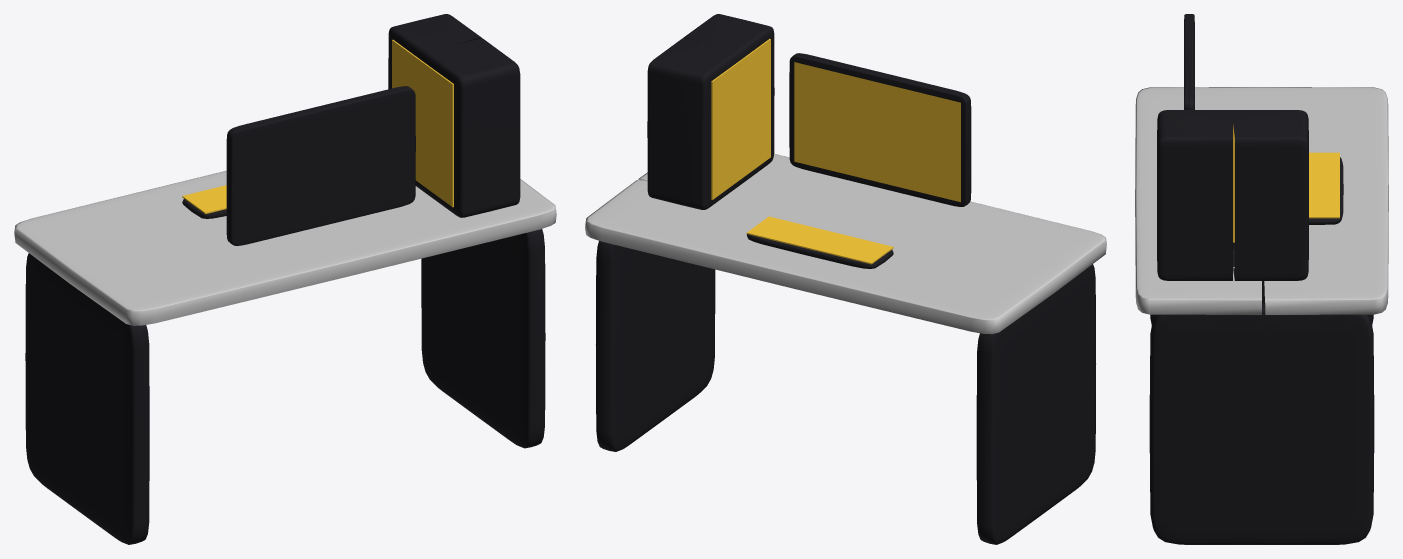
Rendered from home_desk.fbx.
3 renders of one model, left to right at view 1: azimuth 30°, elevation 25°; view 2: azimuth 150°, elevation 25°; view 3: azimuth 270°, elevation 25°, orthographic. The views are drawn at different scales.
Visible parts, largest first — view 1: home_desk; view 2: home_desk; view 3: home_desk.
Part boxes in pixels (x1,y1,x2,y2): home_desk: [14, 14, 556, 544]; home_desk: [585, 14, 1106, 544]; home_desk: [1135, 14, 1388, 544].
Bounding box in the file's own units: 1.4 × 1.21 × 0.7.
